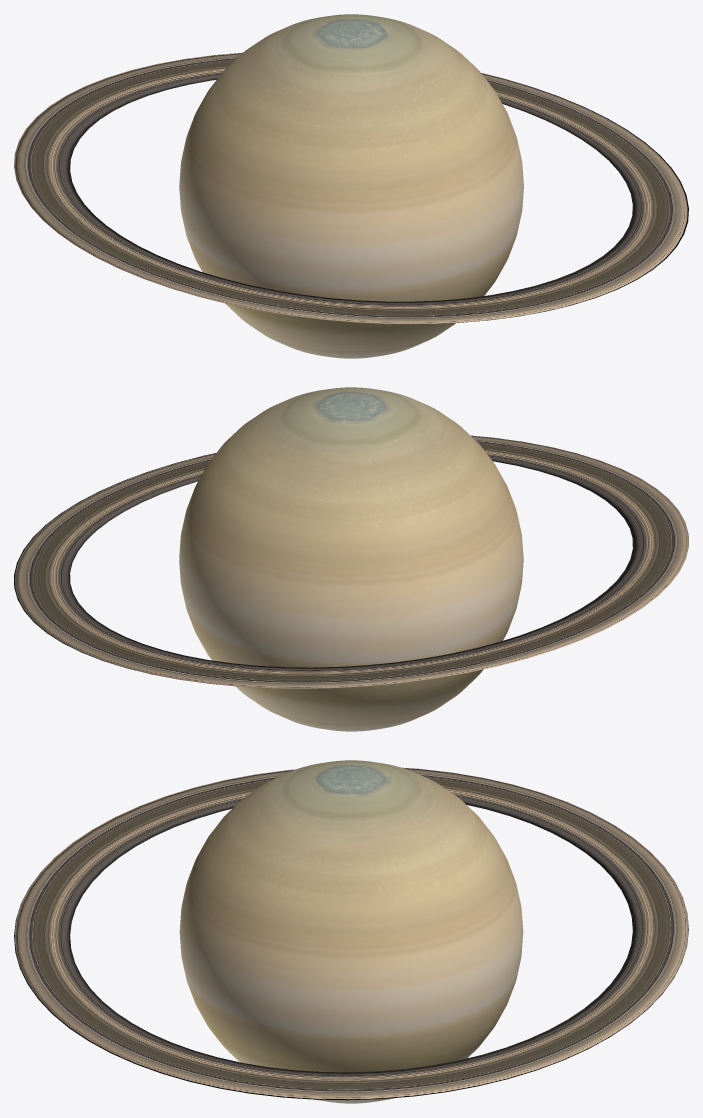
File: Saturn.glb
The picture shows the model from 3 angles, top to bottom: view 1: azimuth 30°, elevation 25°; view 2: azimuth 150°, elevation 25°; view 3: azimuth 270°, elevation 25°; orthographic projection.
Parts seen in each view (by area): view 1: Sphere, Circle; view 2: Sphere, Circle; view 3: Sphere, Circle.
Part boxes in pixels (bbox=[...]): Sphere: bbox=[179, 14, 523, 358]; Circle: bbox=[14, 52, 688, 324]; Sphere: bbox=[179, 387, 523, 731]; Circle: bbox=[14, 435, 688, 688]; Sphere: bbox=[179, 760, 523, 1103]; Circle: bbox=[14, 767, 688, 1100].
Bounding box in the file's own units: 392 × 200 × 393.
3 materials, 2 textured.
